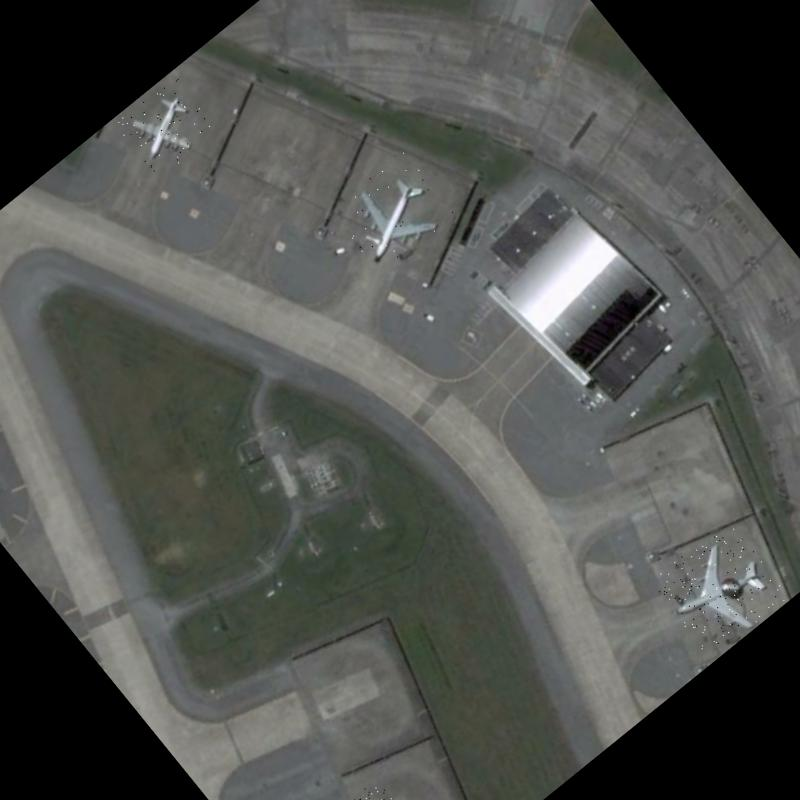A11: (327, 150, 457, 278)
A7: (648, 518, 790, 660)
A9: (114, 74, 220, 179)
